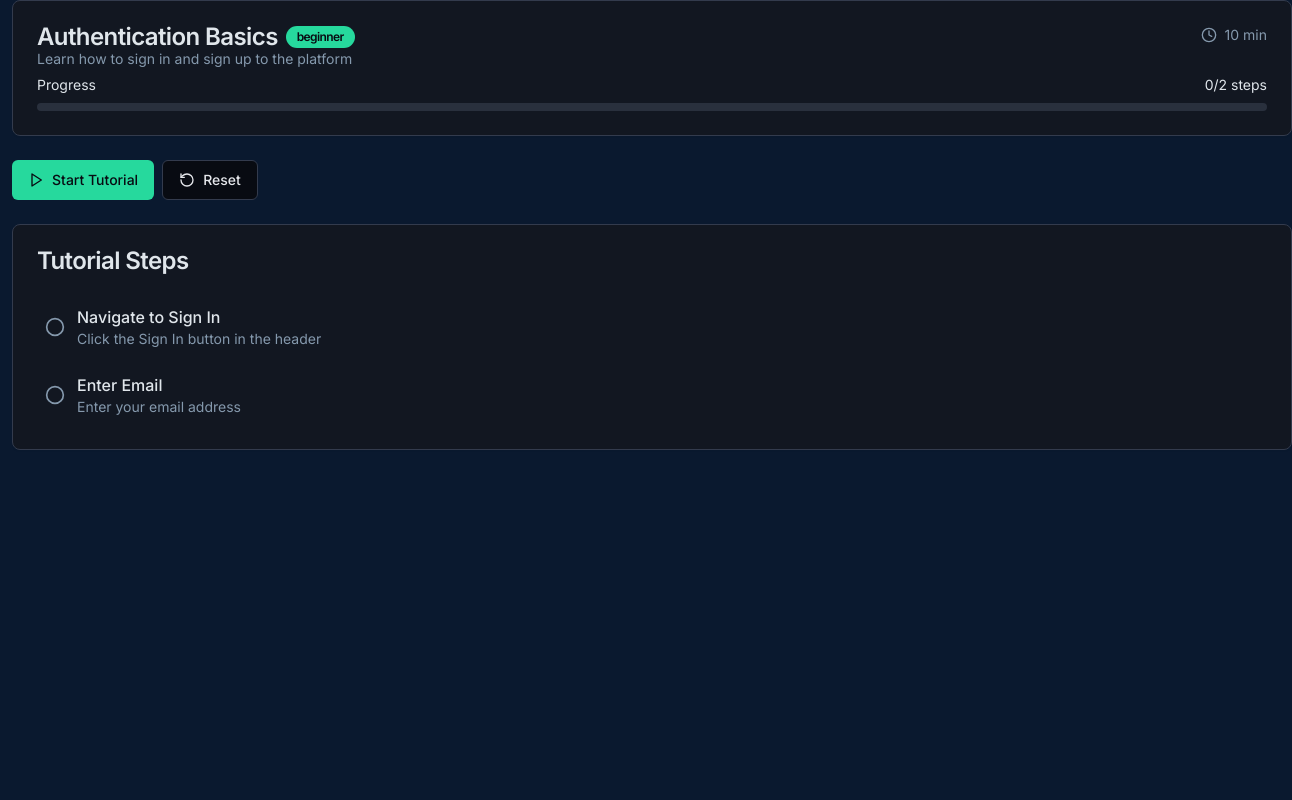
InteractiveTutorial › Tutorial Completion › should show completion state when all steps are completed
// Start tutorial
Step 1. Click the button "Start Tutorial" → (83, 180), box [12,160,154,200]
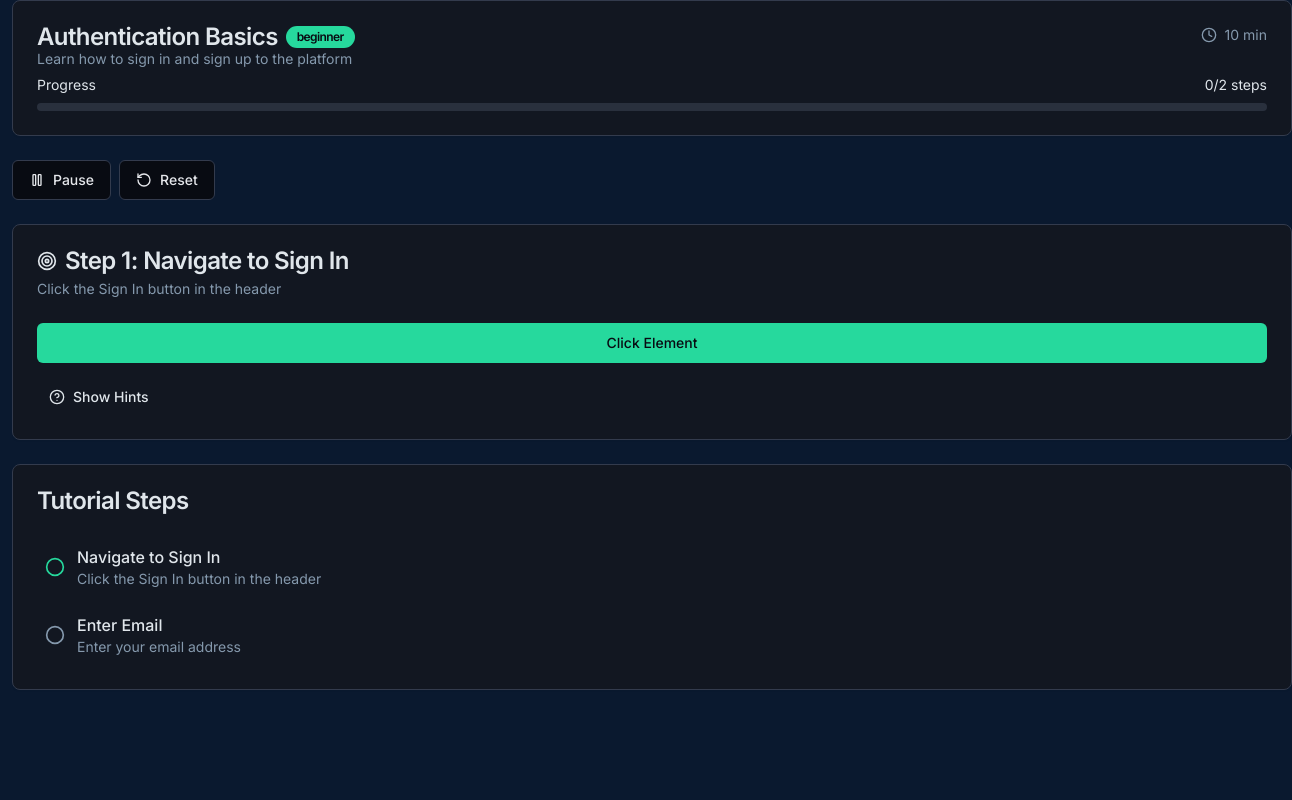
// Complete first step
Step 2. Click the button "Click Element" → (652, 343), box [37,323,1267,363]
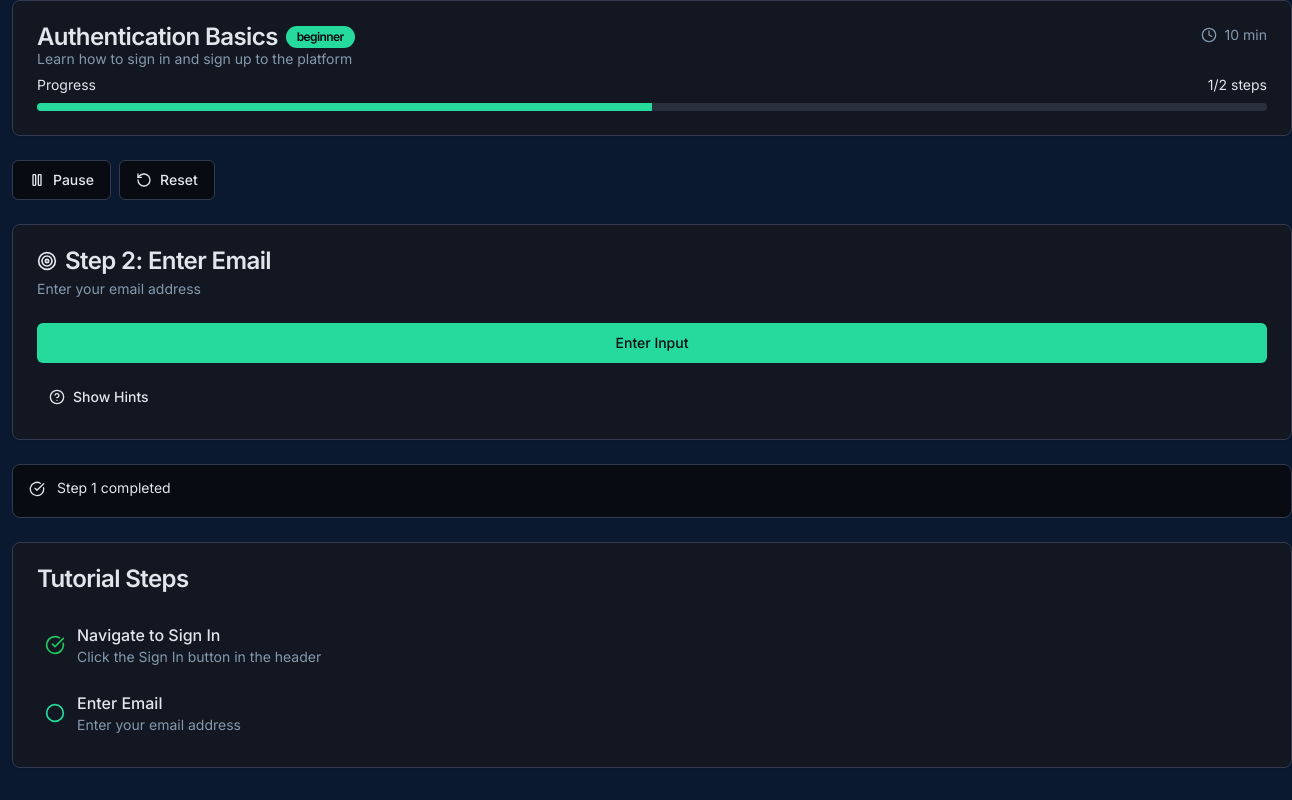
// Complete second step
Step 3. Click the button "Enter Input" → (652, 343), box [37,323,1267,363]
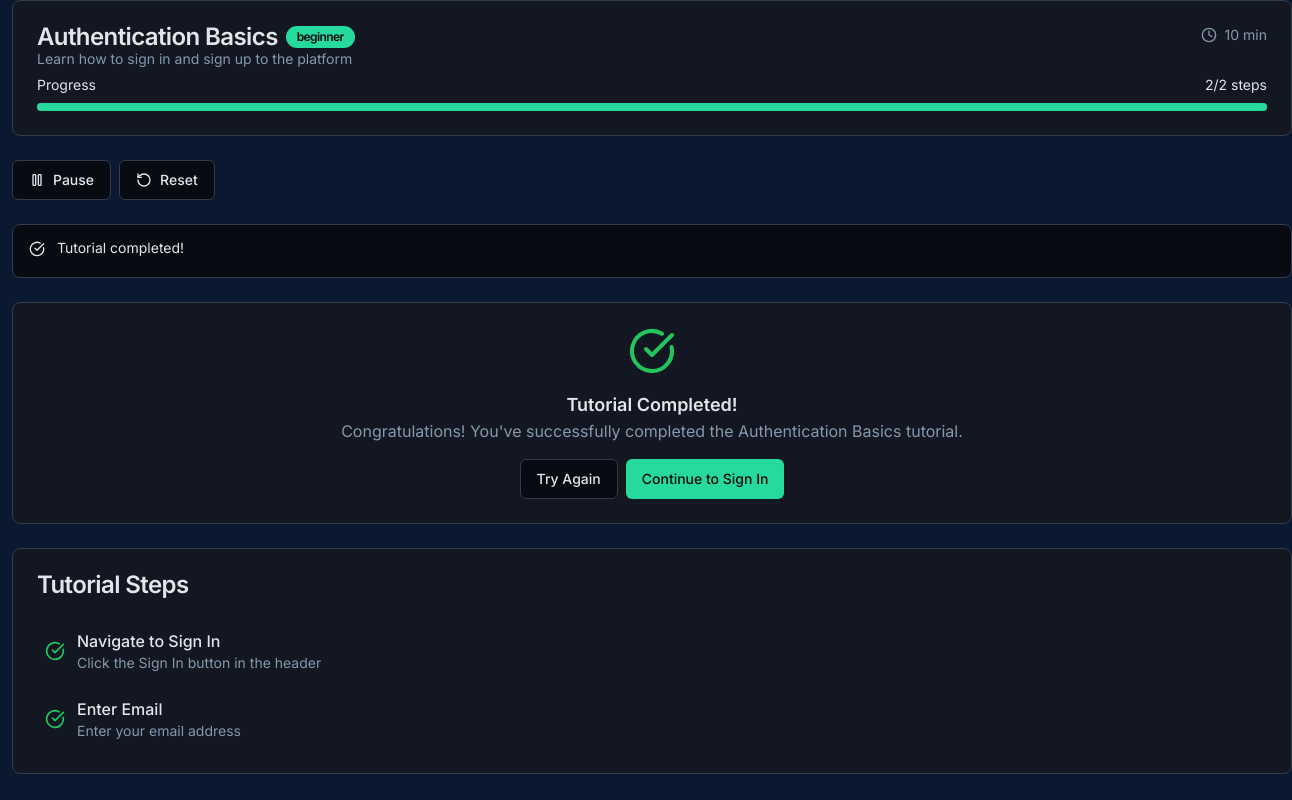
Check: the heading "Tutorial Completed!" is shown, box [566,394,738,415]
Check: the text "Congratulations! You've successfully completed" is shown, box [341,421,738,441]
